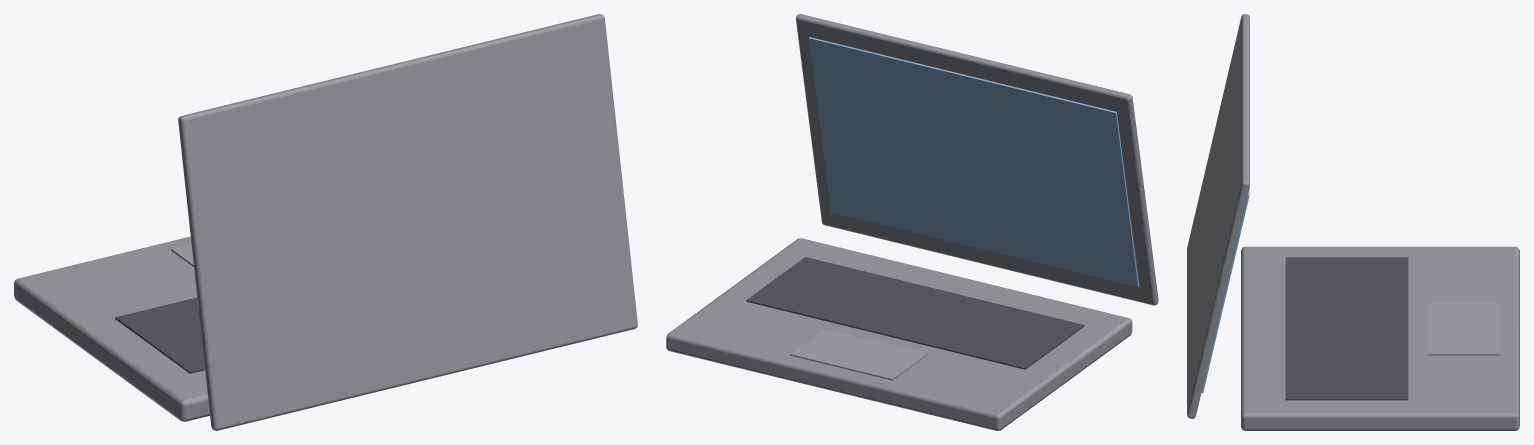
File: escena.casa.notebook.fbx
The picture shows the model from 3 angles, left to right: view 1: azimuth 30°, elevation 25°; view 2: azimuth 150°, elevation 25°; view 3: azimuth 270°, elevation 25°; orthographic projection. The views are drawn at different scales.
Visible parts, largest first — view 1: Tapa, Base, Teclado; view 2: Pantalla, Base, Tapa, Teclado, Touchpad; view 3: Base, Teclado, Tapa, Touchpad, Pantalla.
Boxes of the visible parts, x1,y1,x2,y2 form: Tapa: (178,14,637,430); Base: (14,236,209,421); Teclado: (115,297,204,373); Pantalla: (808,37,1139,286); Base: (666,238,1132,430); Tapa: (796,14,1158,305); Teclado: (746,257,1084,369); Touchpad: (790,328,927,380); Base: (1241,246,1519,430); Teclado: (1285,257,1408,400); Tapa: (1187,14,1249,418); Touchpad: (1427,302,1500,355); Pantalla: (1201,188,1249,393).
Size of the model in its own units: 0.36 by 0.2476 by 0.2982.
